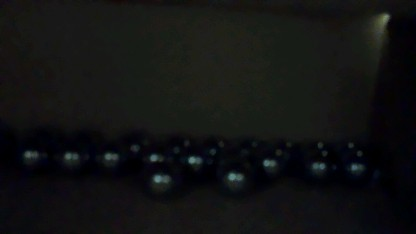ironball: (143, 161, 176, 191), (12, 137, 42, 170), (305, 155, 334, 182), (93, 144, 123, 169), (227, 135, 257, 160), (342, 156, 369, 183), (57, 140, 81, 169), (202, 131, 225, 160), (219, 165, 245, 188), (304, 138, 331, 160), (273, 132, 296, 157), (184, 148, 205, 175), (342, 135, 366, 158), (257, 157, 282, 177), (141, 145, 166, 164), (165, 130, 186, 152), (126, 137, 140, 155)
